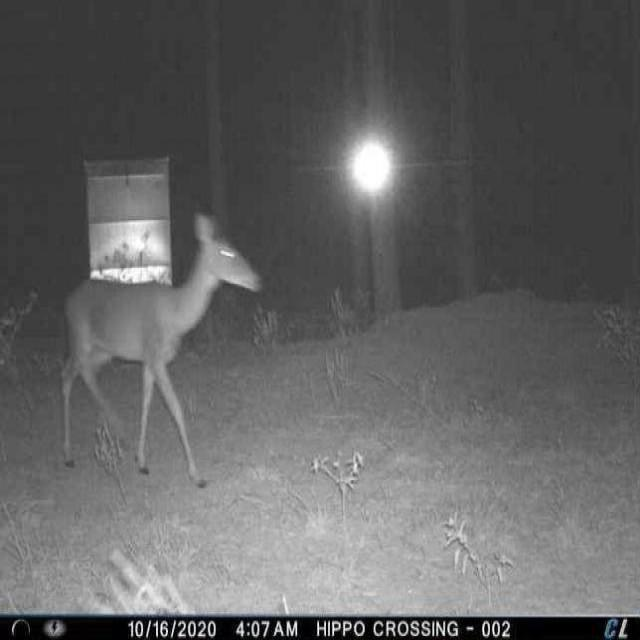deer: (56, 206, 264, 490)
